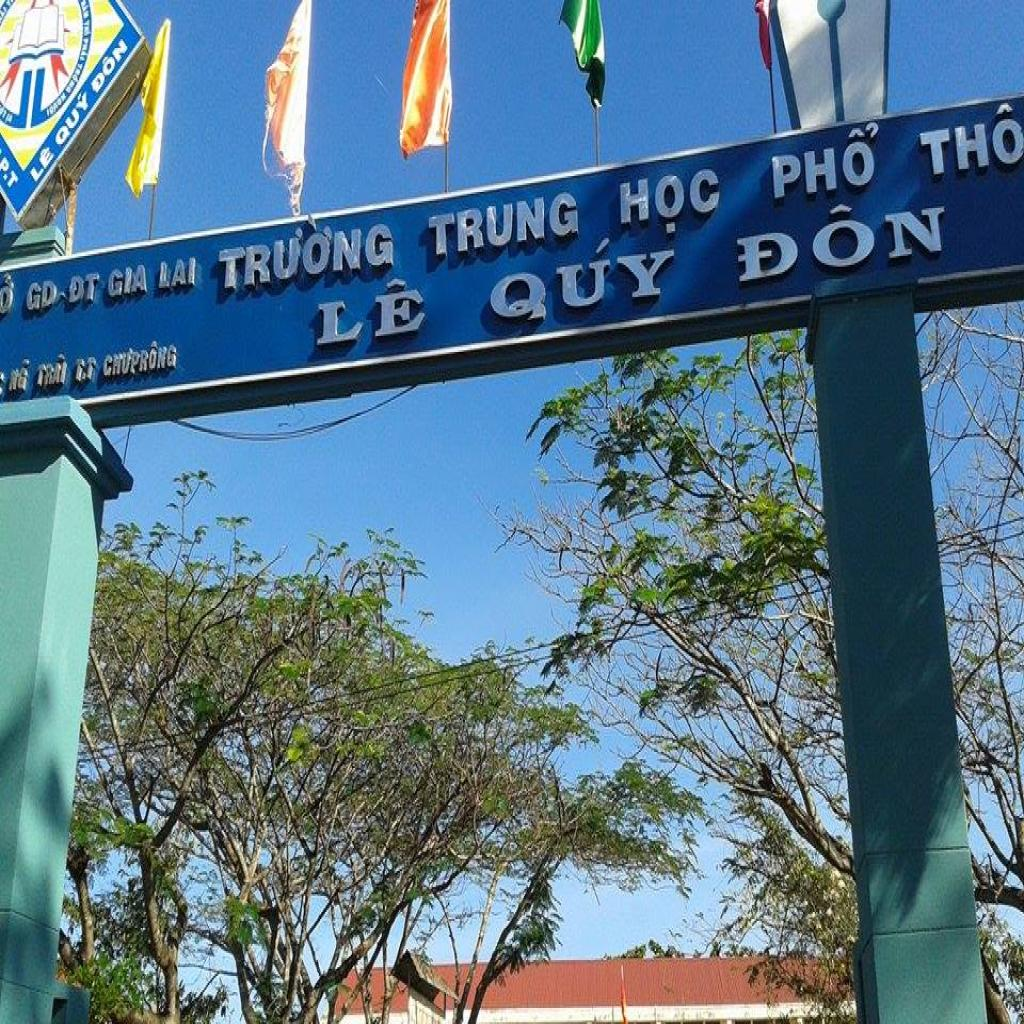text: (488, 229, 682, 331), (218, 204, 396, 297), (422, 188, 582, 266), (767, 118, 883, 206), (914, 98, 1023, 186), (612, 160, 724, 244), (312, 272, 426, 354), (99, 338, 177, 380), (89, 28, 132, 100), (50, 85, 92, 153), (106, 261, 149, 304), (35, 350, 73, 395), (66, 270, 103, 311), (156, 256, 197, 293), (24, 278, 58, 318), (28, 142, 56, 187), (5, 356, 32, 396), (73, 354, 99, 388), (0, 153, 21, 194), (0, 268, 15, 316)
